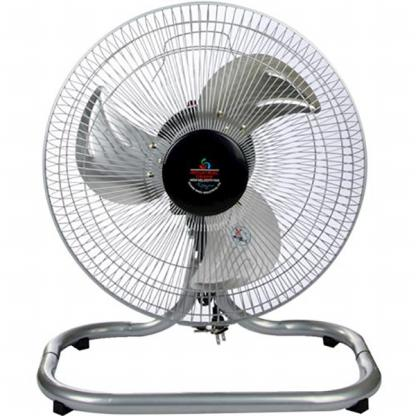fan: (25, 1, 391, 416)
